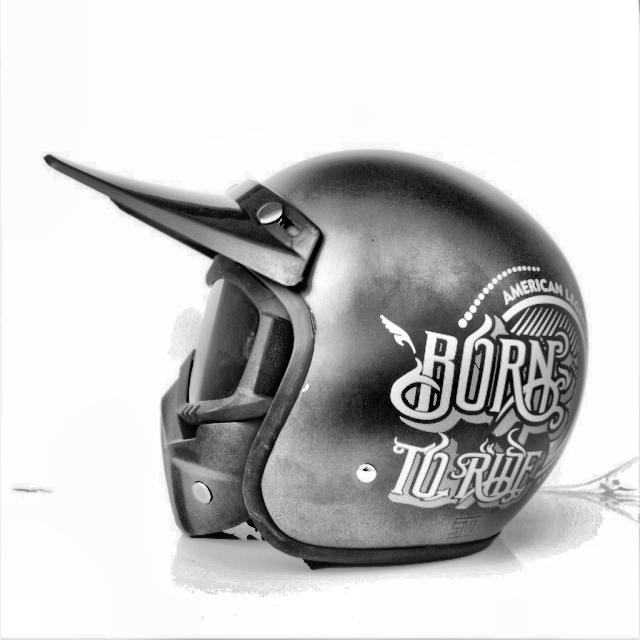Helmet: (29, 134, 596, 582)
